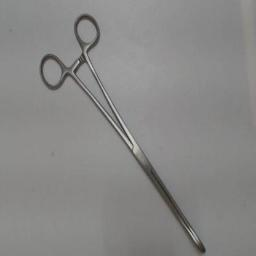Sponge Forceps: (36, 9, 212, 255)
